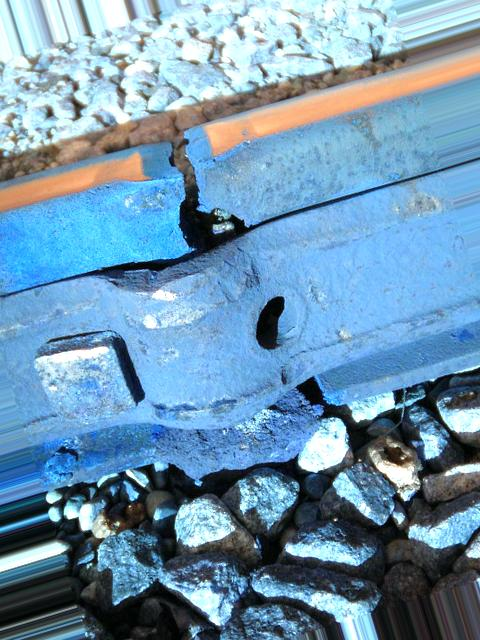tracks_fault: (85, 78, 363, 504)
